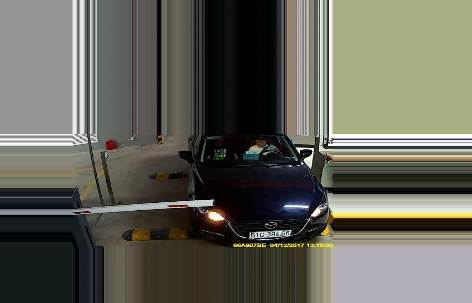plate: (248, 229, 291, 238)
